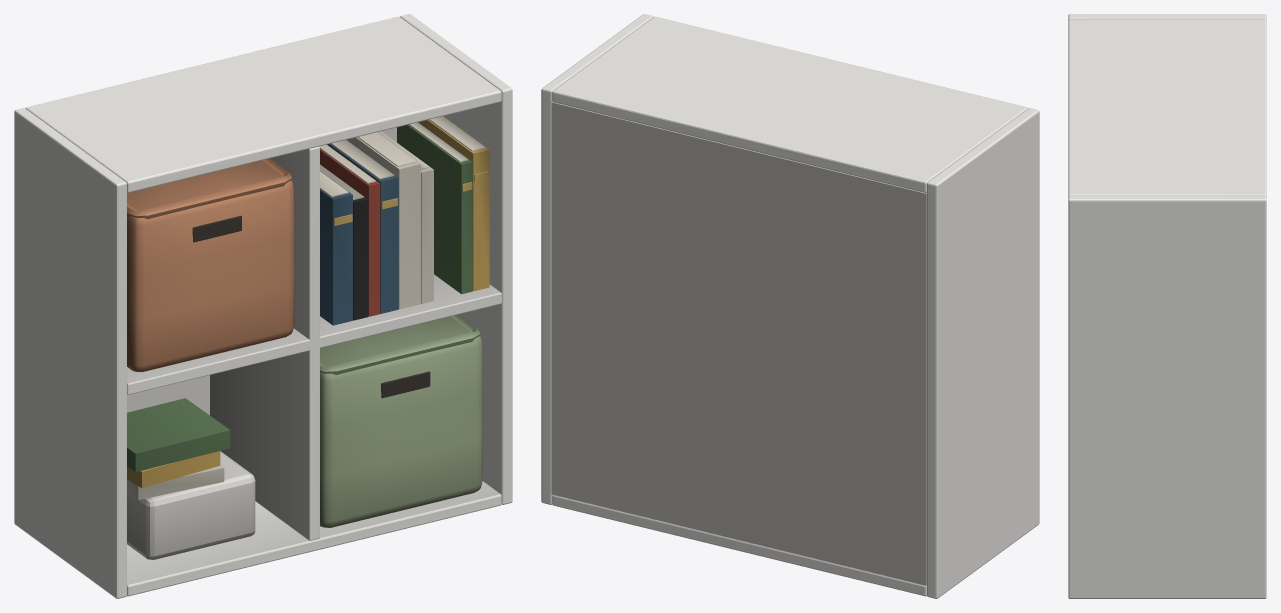
Rendered from cubeShelf.glb.
3 renders of one model, left to right at view 1: azimuth 30°, elevation 25°; view 2: azimuth 150°, elevation 25°; view 3: azimuth 270°, elevation 25°, orthographic. The views are drawn at different scales.
Visible parts, largest first — view 1: cubeShelf; view 2: cubeShelf; view 3: cubeShelf.
Part boxes in pixels (box(x1,y1,x2,y2)): cubeShelf: box(14, 14, 512, 598); cubeShelf: box(541, 14, 1039, 598); cubeShelf: box(1068, 14, 1266, 598).
Bounding box in the file's own units: 0.8 × 0.8 × 0.36.
